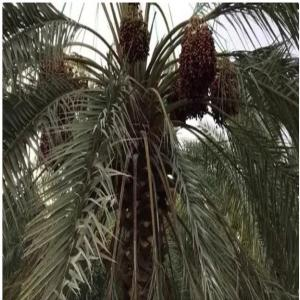palm tree: (3, 1, 299, 298)
